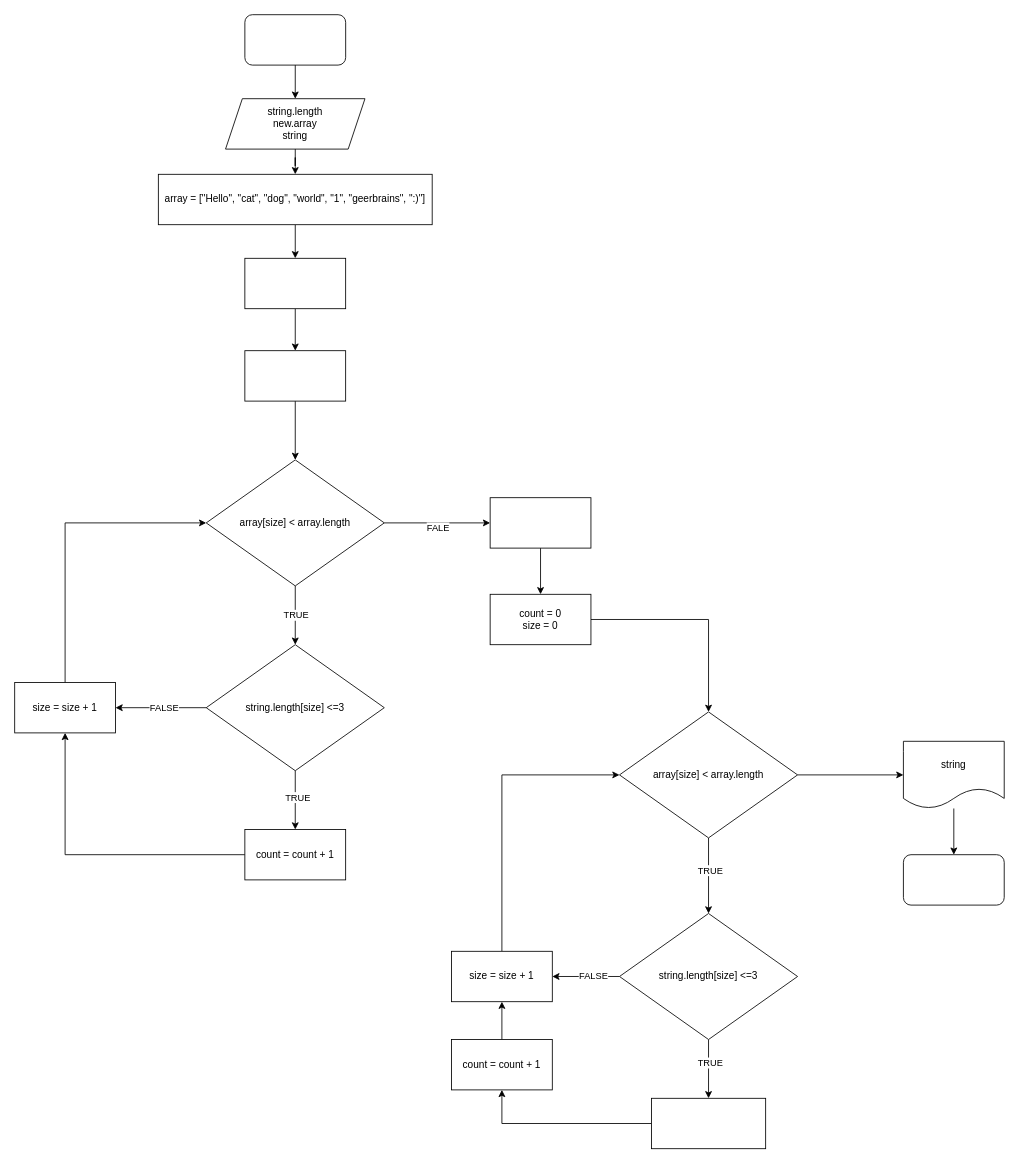
The diagram is 1019 pixels wide and 1163 high, and some of its shapes have lost their labels. The shapes that lost their labels are listed below. From the top down, each one's box as (x1, y1, x2, y2) in pixels, then its label:
(244, 14, 346, 65): START
(244, 257, 346, 309): array.length = 7 size = 0
(244, 350, 346, 401): count = 0
(489, 497, 591, 548): new.array[count]
(903, 854, 1004, 905): FINISH
(651, 1097, 766, 1149): new.array[count]=string
